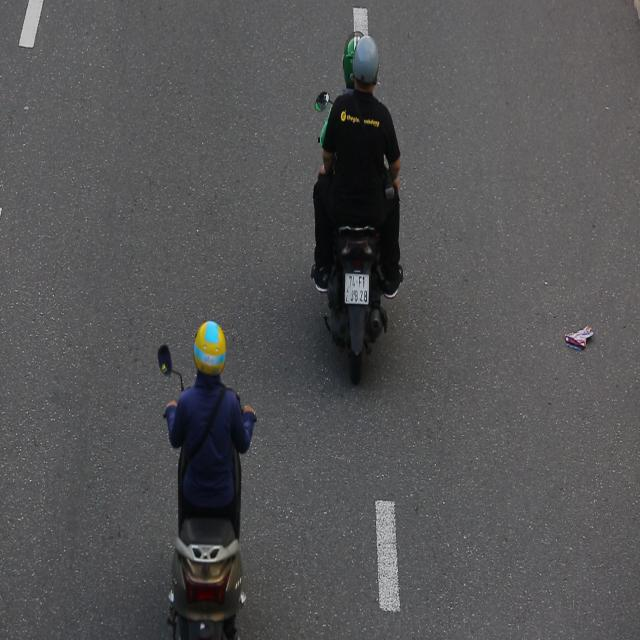motorbike: (304, 24, 412, 393)
